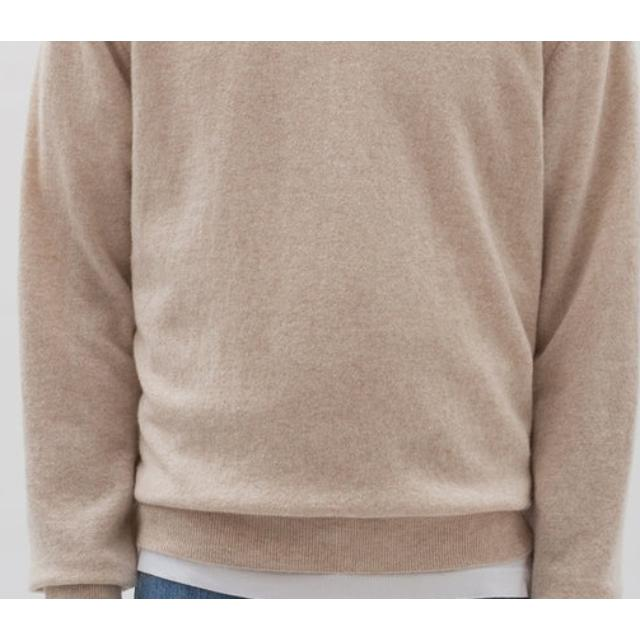wool: (6, 41, 640, 585)
